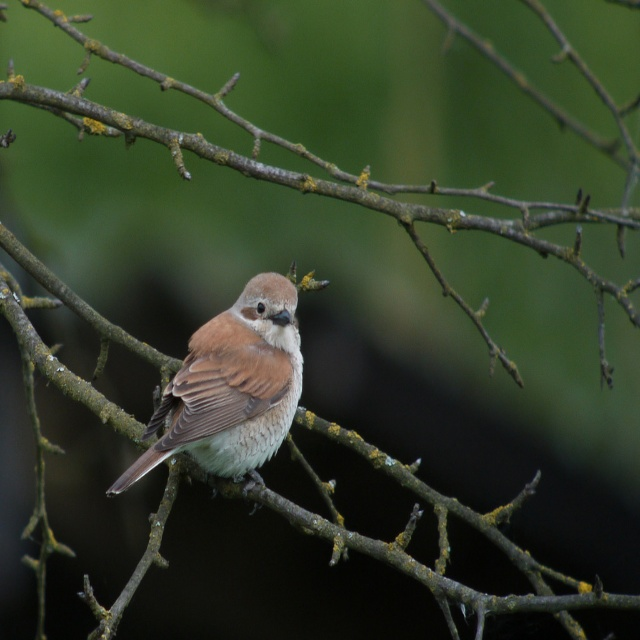Sparrow: (102, 269, 308, 501)
